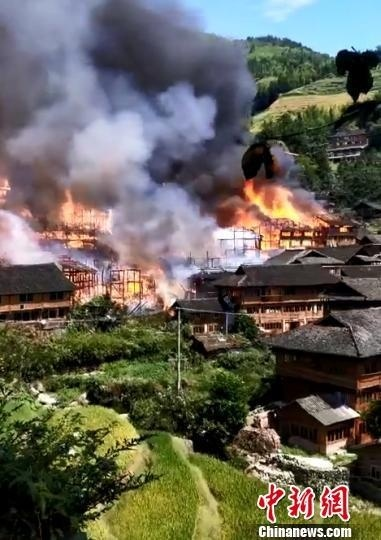fire: (226, 176, 347, 251), (116, 263, 151, 297)
